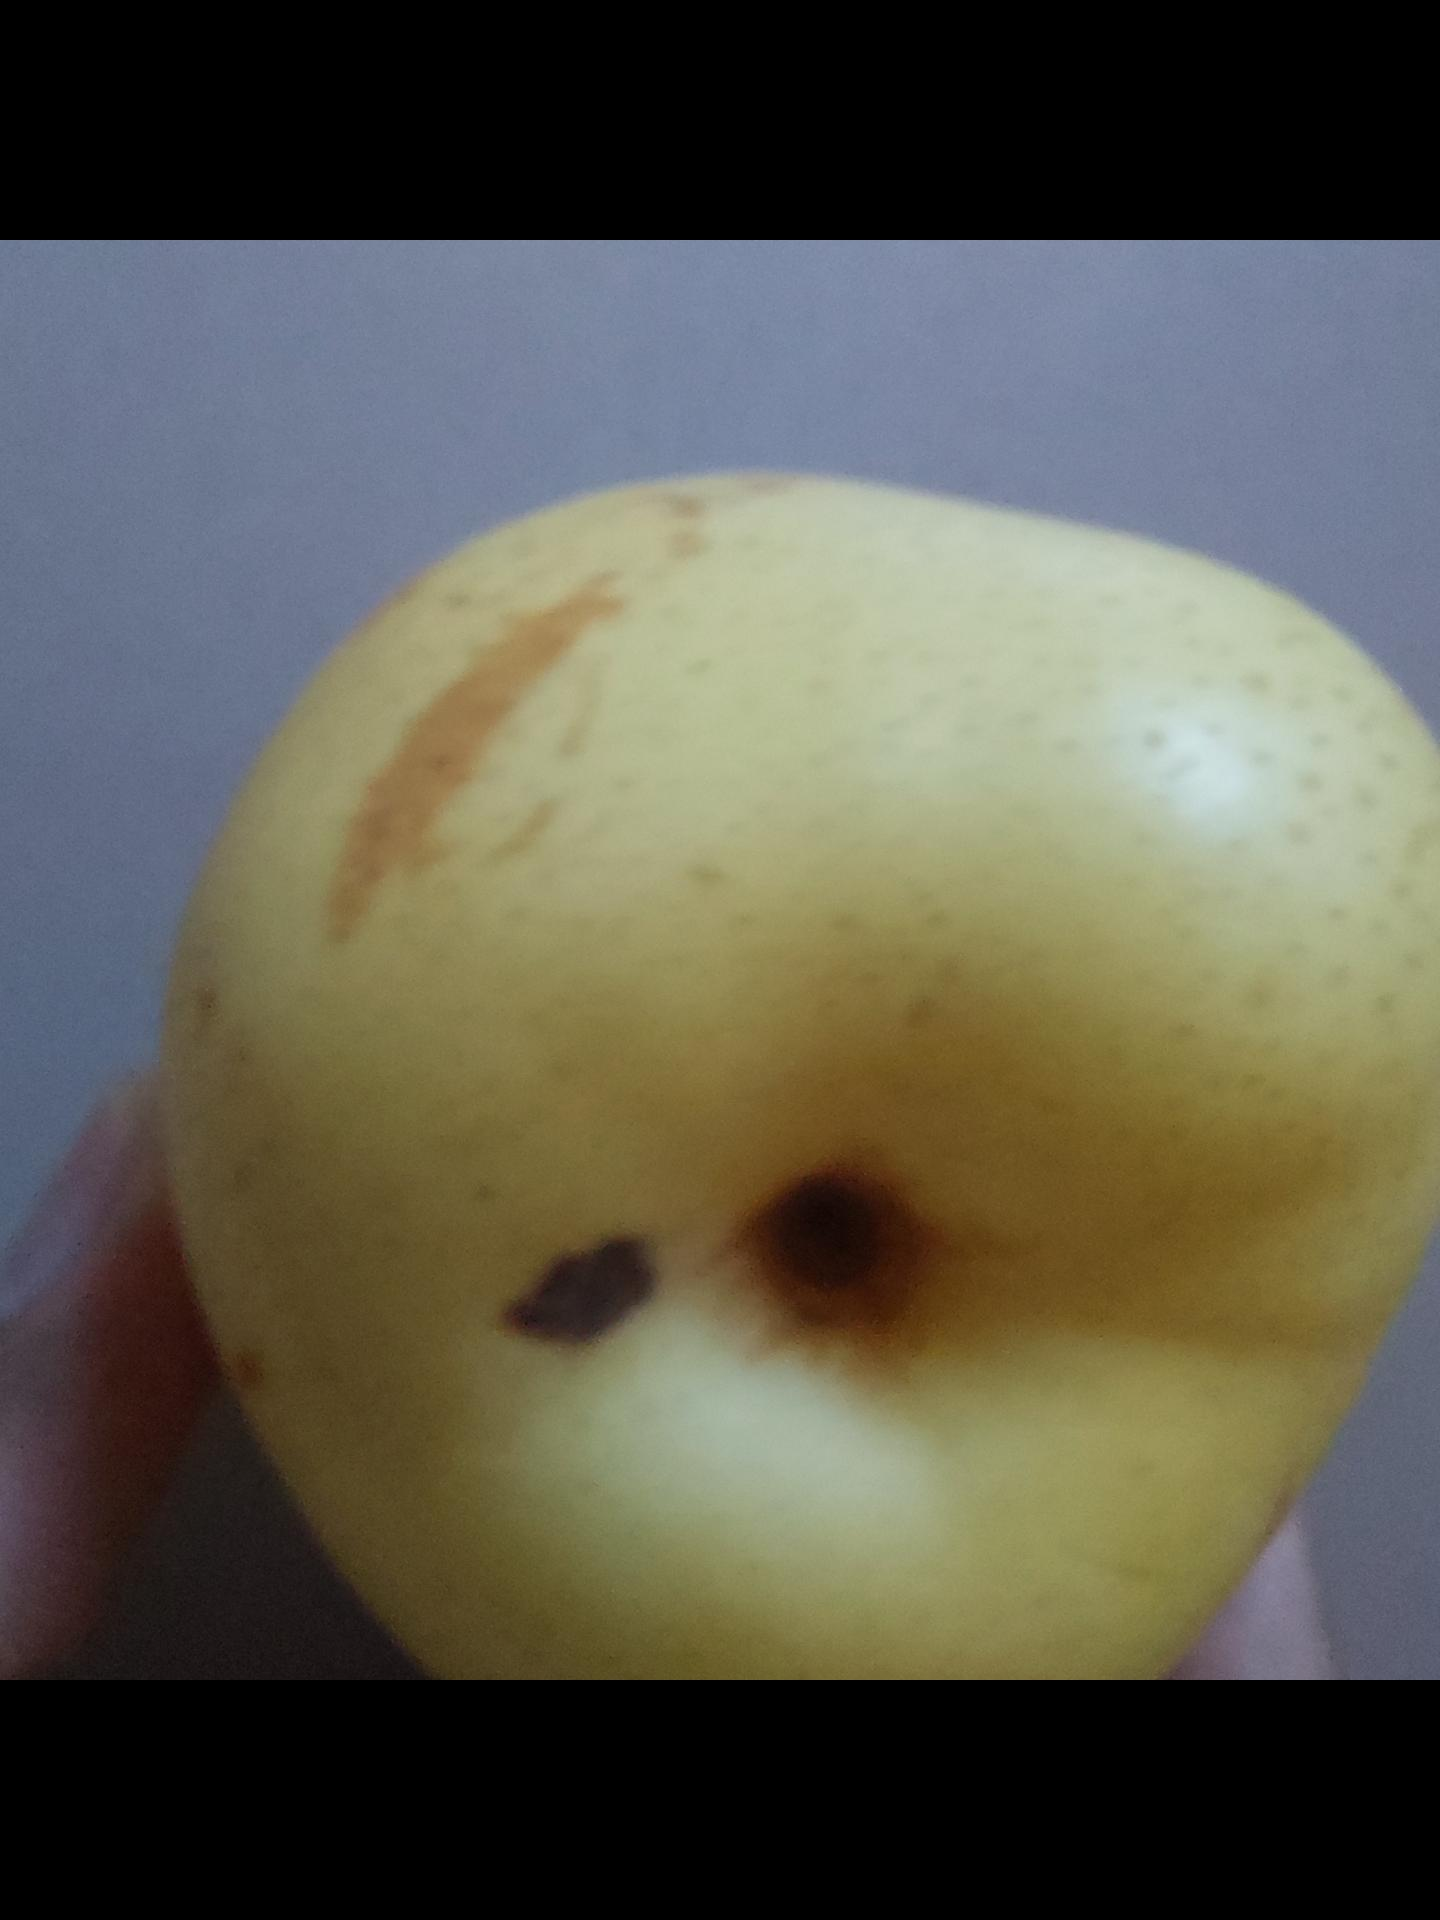Good Pear: (151, 466, 1440, 1680)
